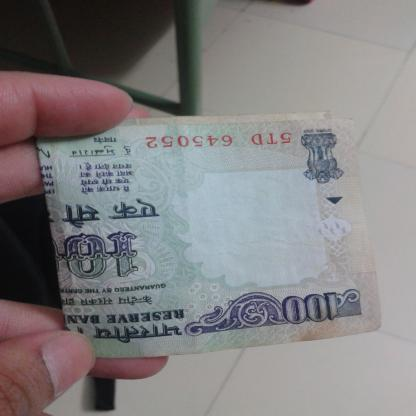Old100Front: (35, 109, 383, 357)
